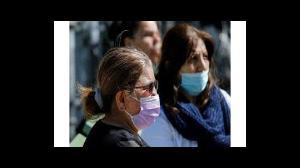mask_weared_incorrect: (186, 53, 213, 91)
with_mask: (137, 81, 166, 131)
without_mask: (140, 28, 163, 59)
